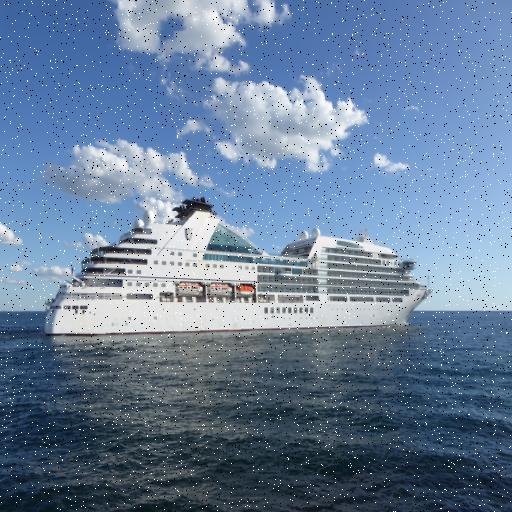cruises: (41, 196, 436, 342)
